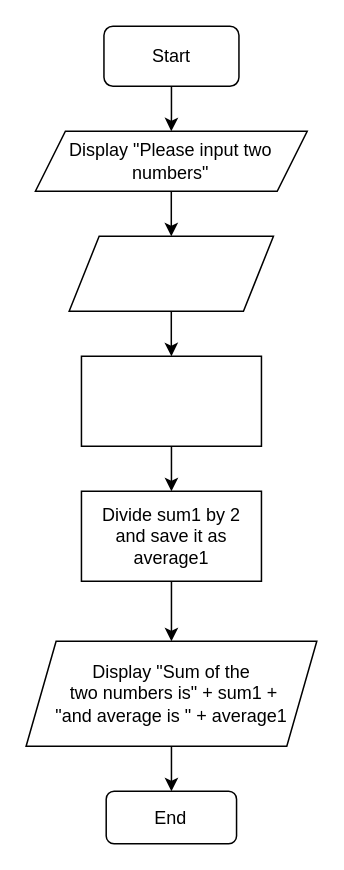
This 344x870 diagram has some shape labels left out. The centre of each missing label's shape, as x and y in pixels:
"Calculate numb1+numb2 and save it as sum1" goes at [170,400].
"Save Number1 & Number2" goes at [170,273].
